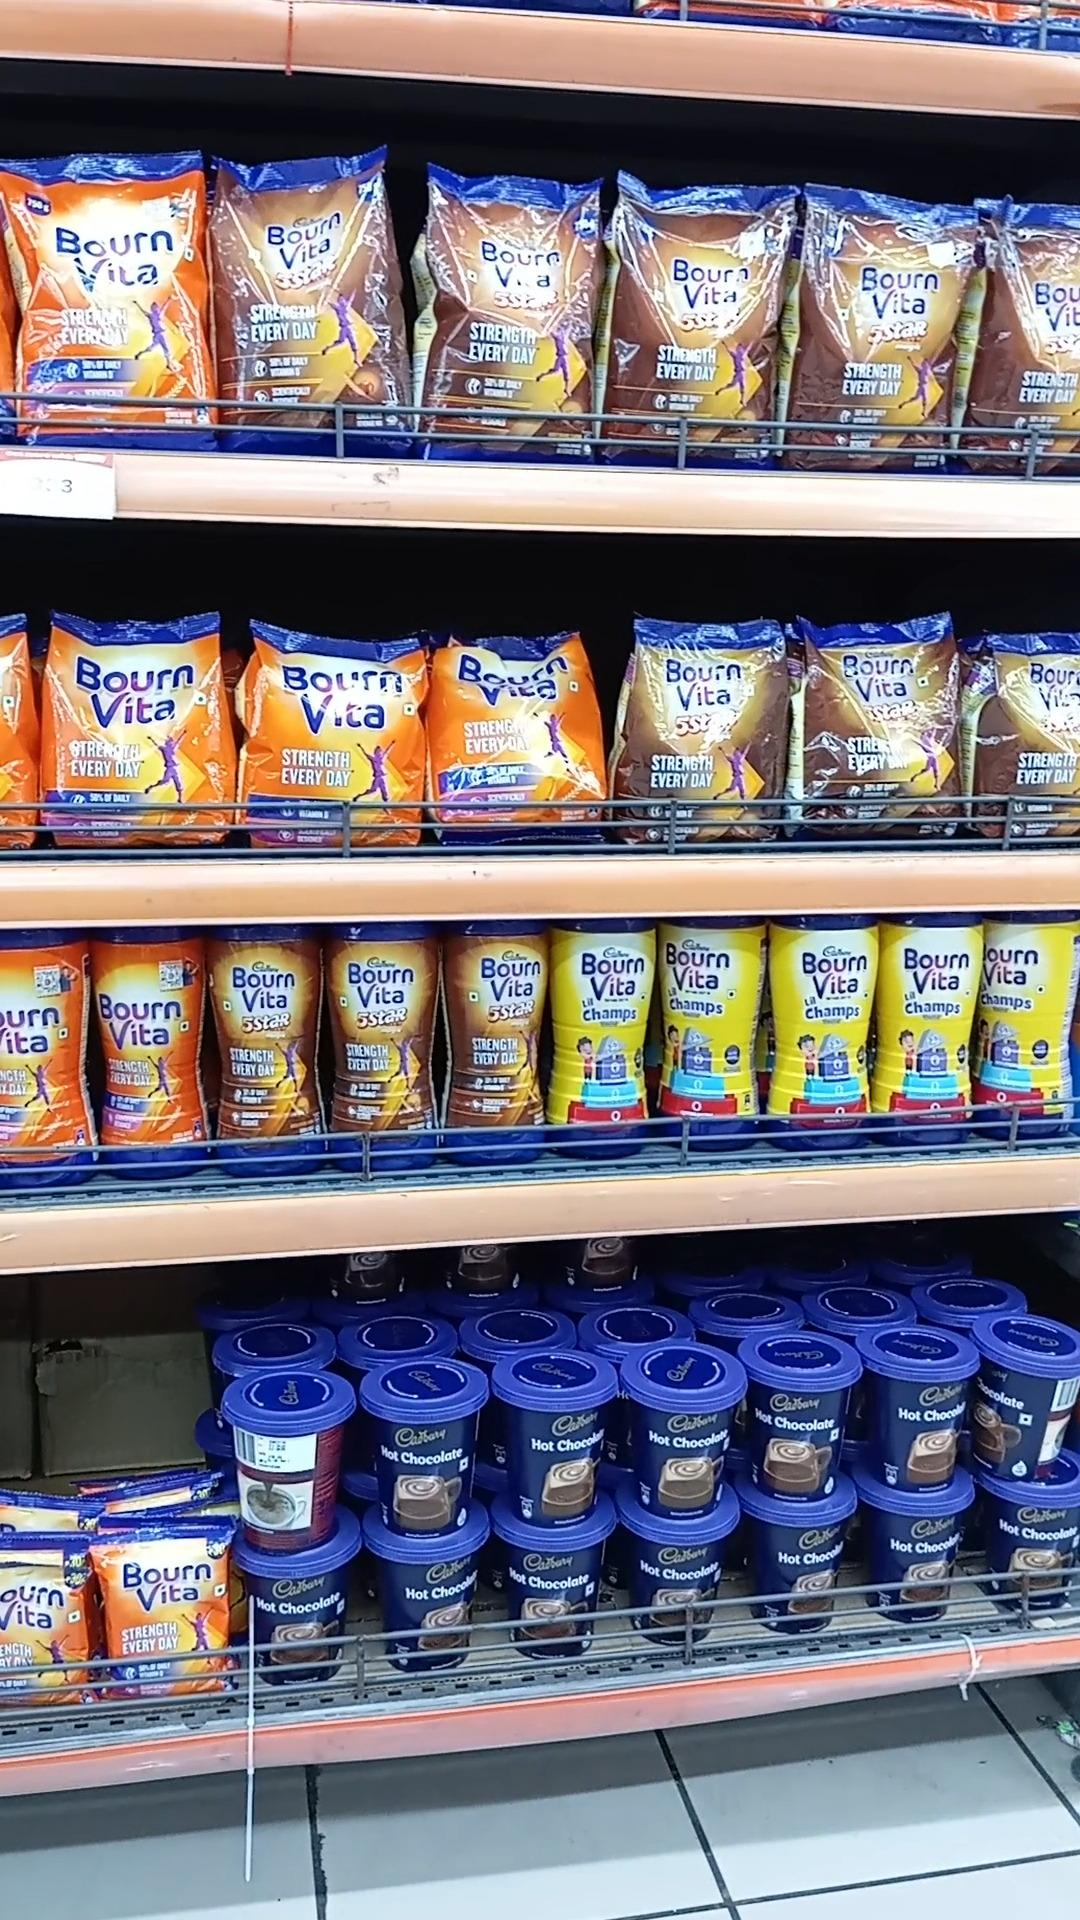BOURN_VITA_500_G_JAR: (96, 930, 198, 1180), (0, 928, 83, 1191)
BOURN_VITA_500_G_POUCH: (47, 613, 224, 847), (244, 618, 417, 847), (427, 641, 600, 839)
BOURN_VITA_750_G_POUCH: (3, 153, 203, 448)
BOURN_VITA_75_G_POUCH: (104, 1532, 235, 1701), (0, 1545, 91, 1706)
BOURN_VITA_CHAMPS_500_G_JAR: (769, 916, 877, 1153), (551, 918, 654, 1162), (658, 918, 760, 1153), (882, 913, 977, 1143), (980, 913, 1065, 1146)
BOURN_VITA_FIVE_STAR_MAGIC_500_G_JAR: (211, 920, 320, 1180), (331, 915, 433, 1172), (446, 922, 543, 1166)
BOURN_VITA_FIVE_STAR_MAGIC_500_G_POUCH: (802, 617, 956, 843), (626, 620, 774, 849), (985, 637, 1080, 844)
BOURN_VITA_FIVE_STAR_MAGIC_750_G_POUCH: (216, 154, 401, 455), (425, 162, 593, 463), (617, 182, 773, 471), (795, 186, 949, 472), (988, 199, 1080, 479)
